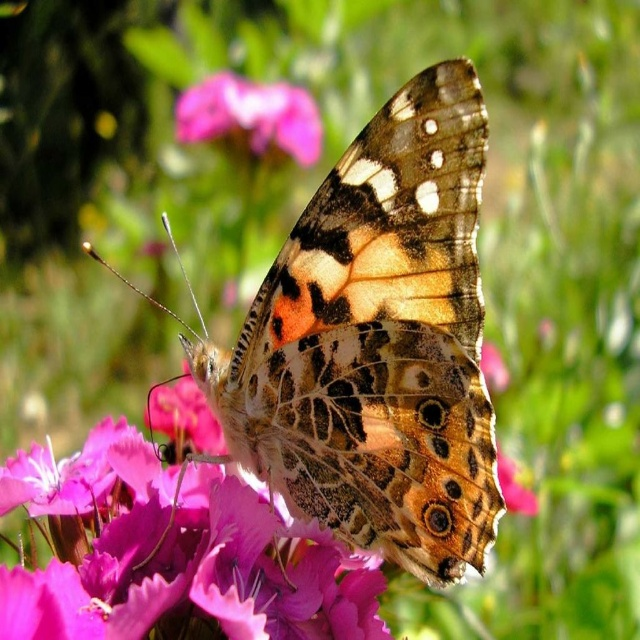Butterfly: (82, 58, 506, 583)
